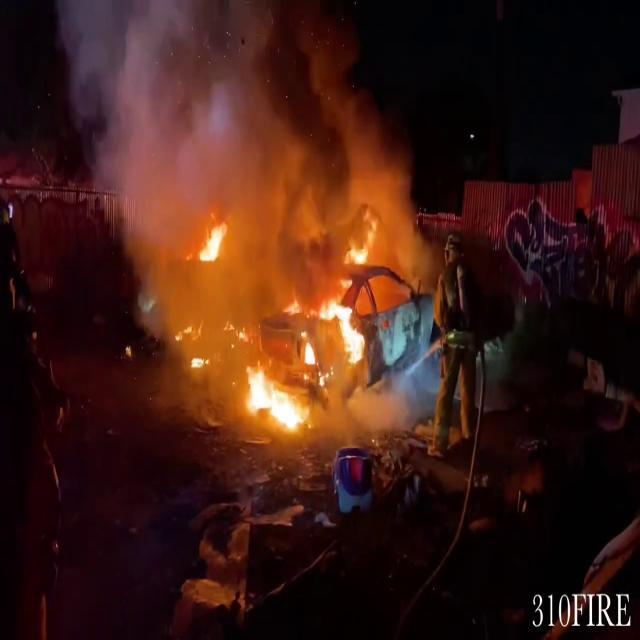Fire: (235, 284, 375, 435), (196, 214, 230, 268)
Smoke: (54, 0, 423, 301)
